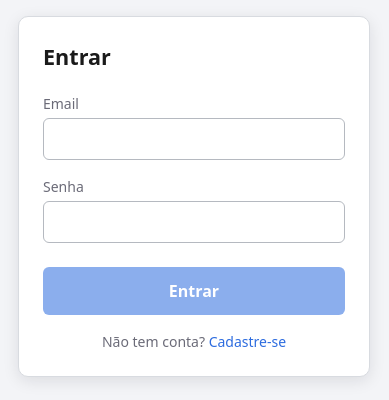
Test case: LoginView › keeps the submit button disabled while either input is empty
expect the button with test id "submit" is disabled: met, box [43,267,345,315]
Type "a@b.com" into the field with test id "email" at (194, 139), box [43,118,345,160]
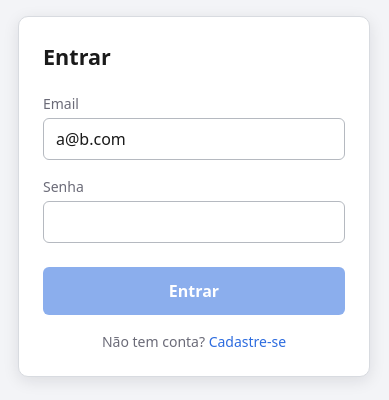
expect the button with test id "submit" is disabled: met, box [43,267,345,315]
Type "Password123" into the password field with test id "password" at (194, 222), box [43,201,345,243]
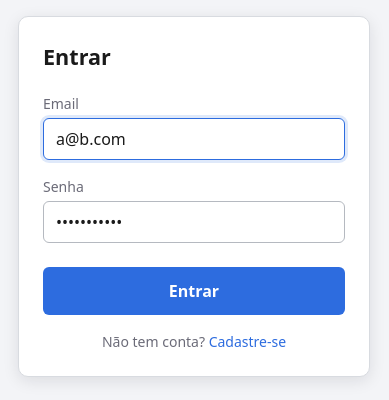
expect the button with test id "submit" is enabled: met, box [43,267,345,315]
